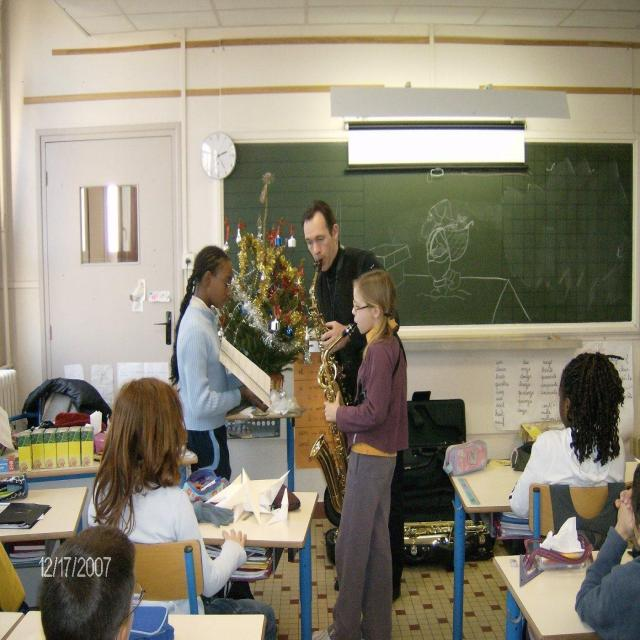saxophone: (303, 260, 358, 519), (401, 508, 490, 550)
